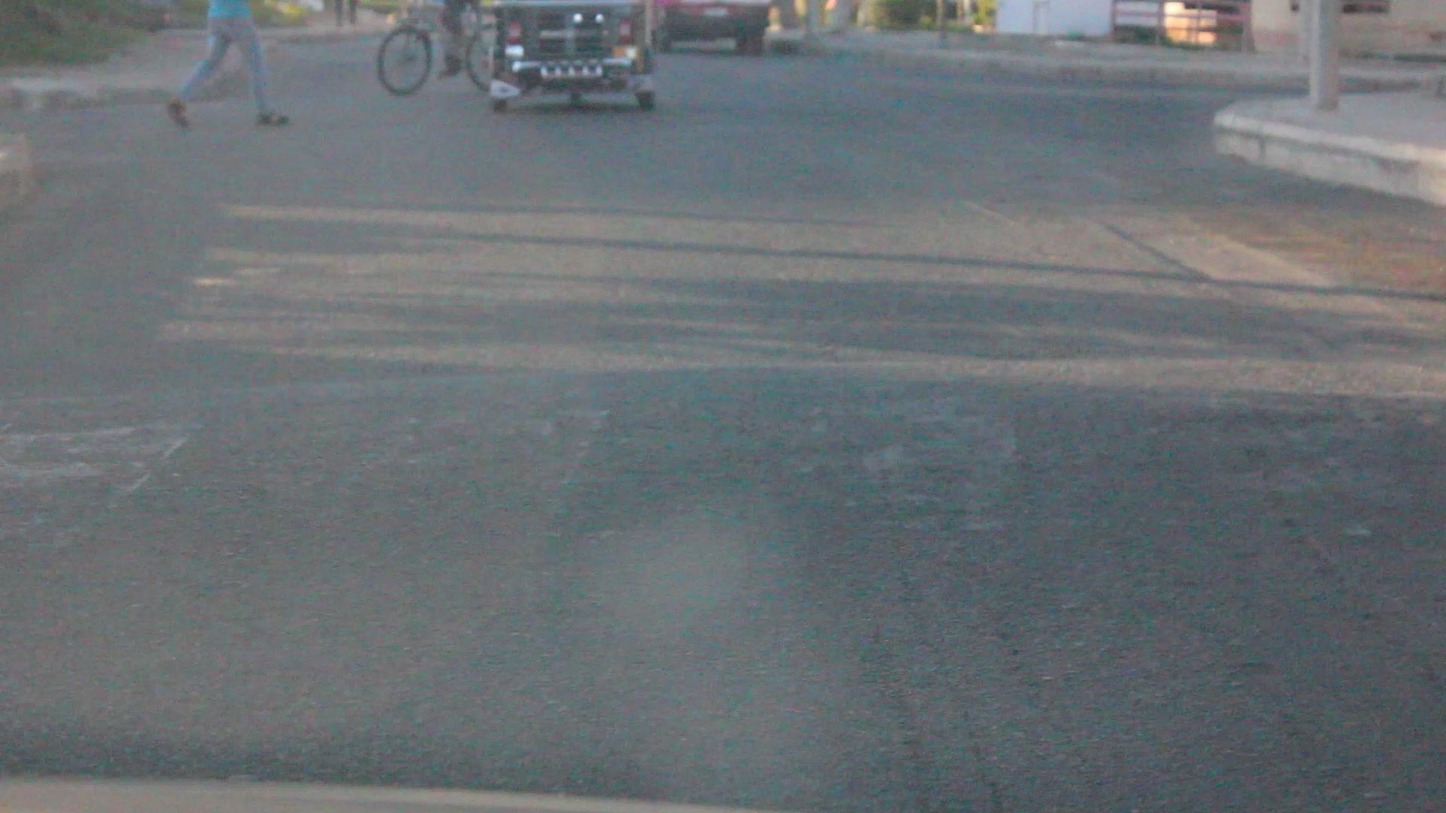Bump: (0, 380, 1446, 536)
